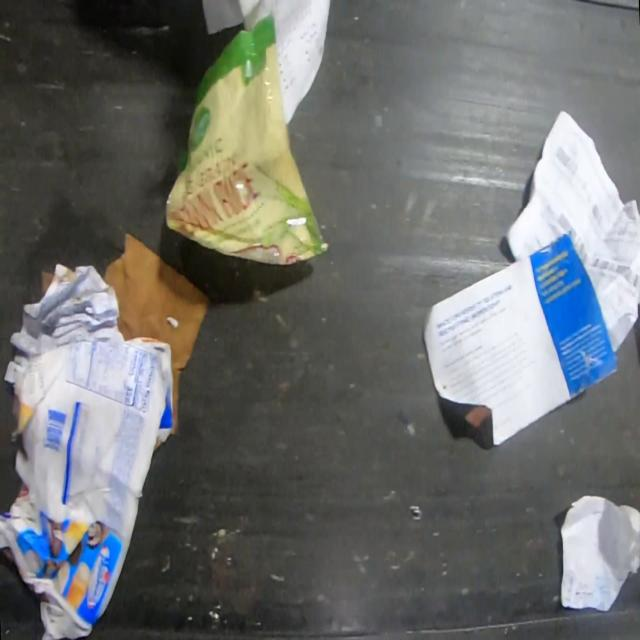cardboard: (0, 339, 174, 640), (102, 232, 210, 435)
soft_plastic: (164, 15, 326, 270)
